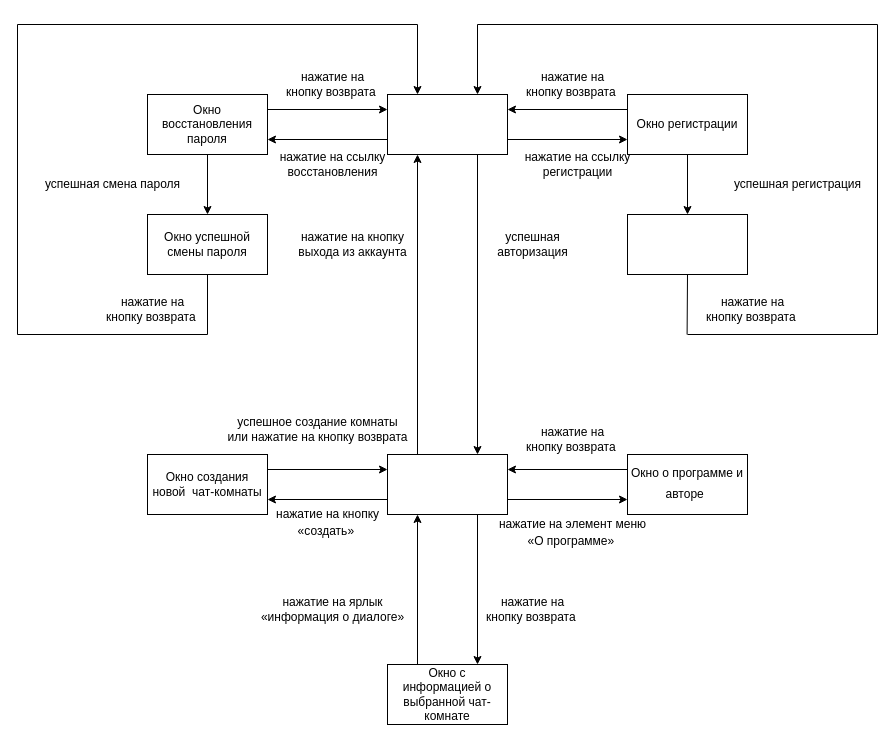
Image size: 896x742. Some labels were removed from this diagram. Each missing label, with the centre of its shape:
"Главное окно программы" belongs at pixel 447 484.
"Окно авторизации" belongs at pixel 447 124.
"Окно успешной регистрации" belongs at pixel 687 244.
